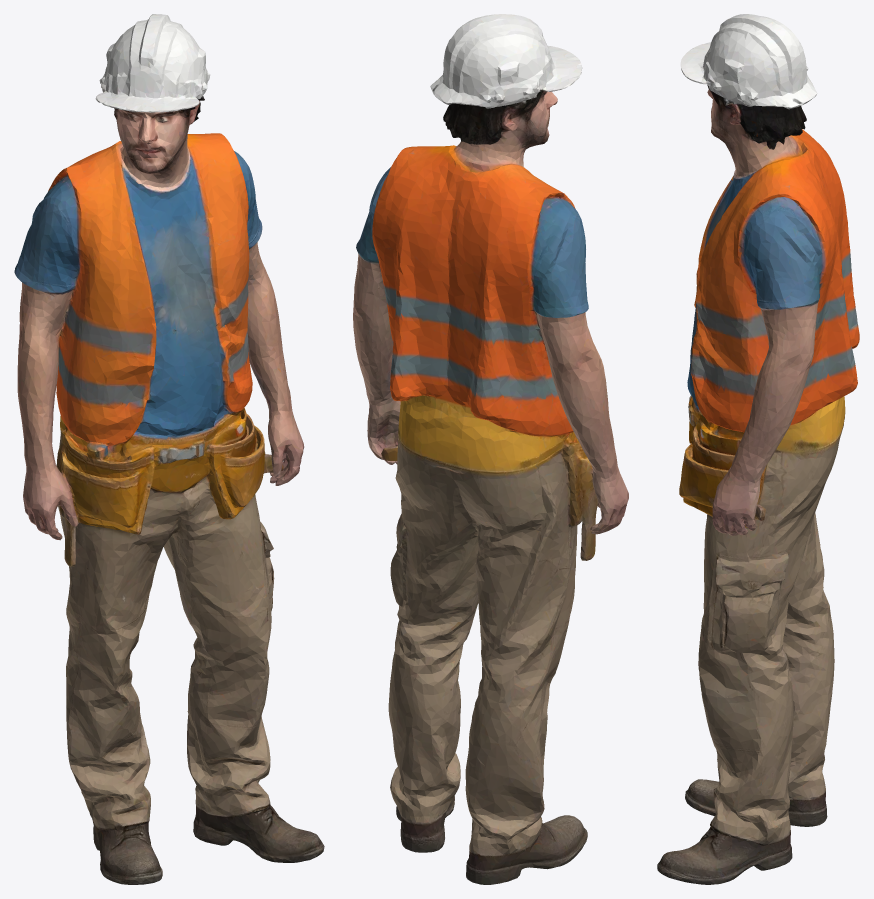
The model's file is trab2.glb.
3 views of the same model, side by side, from view 1: azimuth 30°, elevation 25°; view 2: azimuth 150°, elevation 25°; view 3: azimuth 270°, elevation 25° (orthographic). The views are drawn at different scales.
Visible parts, largest first — view 1: m.obj; view 2: m.obj; view 3: m.obj.
Boxes of the visible parts, <box> form: m.obj: <box>14,14,324,884</box>; m.obj: <box>353,14,628,884</box>; m.obj: <box>657,14,859,884</box>.
Size of the model in its own units: 0.6187 by 1.9 by 0.43.
1 material, 1 textured.
